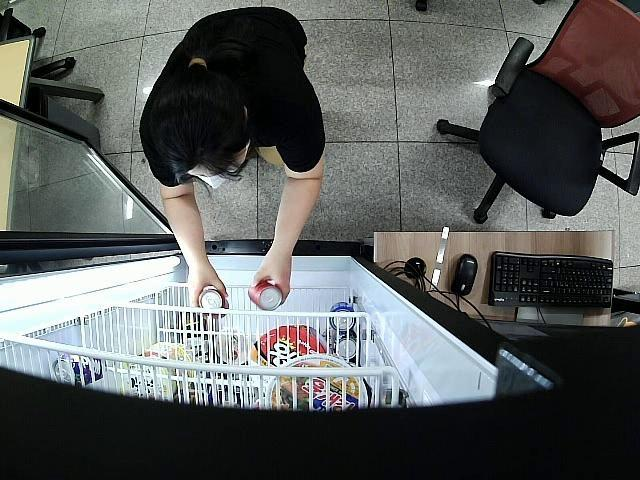11_cocaColaZero: (246, 282, 281, 311), (199, 289, 229, 319)
